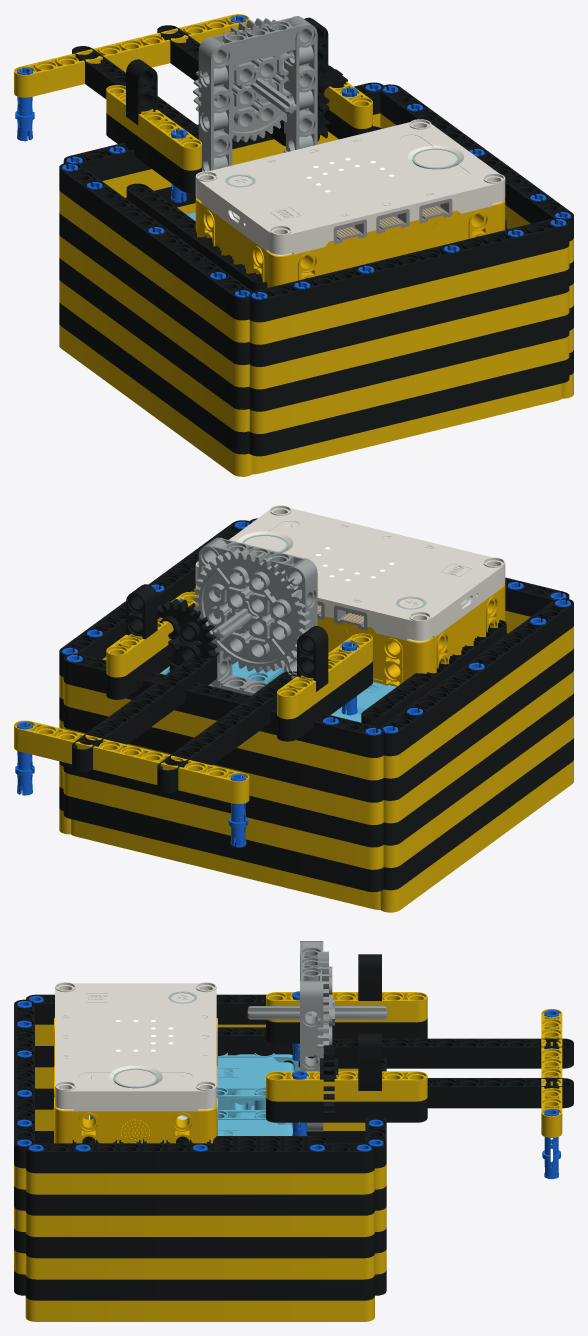
File: connectech-concept.glb
The picture shows the model from 3 angles, top to bottom: view 1: azimuth 30°, elevation 25°; view 2: azimuth 150°, elevation 25°; view 3: azimuth 270°, elevation 25°; orthographic projection. The views are drawn at different scales.
Parts seen in each view (by area): view 1: 05_Rear_frame, 06_SPIKE_hub, 02_Left_chassis, 10_Attachment, 01_Chassis, 11_Transmission, 03_Right_chassis, 04_Front_frame, 07_Motor_core; view 2: 04_Front_frame, 10_Attachment, 02_Left_chassis, 06_SPIKE_hub, 11_Transmission, 01_Chassis, 07_Motor_core, 03_Right_chassis, 05_Rear_frame; view 3: 03_Right_chassis, 10_Attachment, 06_SPIKE_hub, 07_Motor_core, 01_Chassis, 02_Left_chassis, 05_Rear_frame, 11_Transmission, 04_Front_frame.
Part boxes in pixels (left/top/right/bottom): 05_Rear_frame: left=248, top=218, right=569, bottom=456; 06_SPIKE_hub: left=195, top=119, right=505, bottom=287; 02_Left_chassis: left=59, top=162, right=253, bottom=454; 10_Attachment: left=14, top=14, right=372, bottom=202; 01_Chassis: left=59, top=325, right=573, bottom=476; 11_Transmission: left=193, top=18, right=347, bottom=142; 03_Right_chassis: left=379, top=84, right=573, bottom=375; 04_Front_frame: left=63, top=82, right=384, bottom=213; 07_Motor_core: left=126, top=126, right=506, bottom=291; 04_Front_frame: left=63, top=653, right=384, bottom=892; 10_Attachment: left=14, top=537, right=372, bottom=847; 02_Left_chassis: left=379, top=598, right=573, bottom=890; 06_SPIKE_hub: left=195, top=505, right=505, bottom=686; 11_Transmission: left=157, top=548, right=310, bottom=672; 01_Chassis: left=59, top=760, right=573, bottom=912; 07_Motor_core: left=160, top=619, right=506, bottom=727; 03_Right_chassis: left=59, top=520, right=251, bottom=810; 05_Rear_frame: left=248, top=518, right=569, bottom=634; 03_Right_chassis: left=25, top=1143, right=374, bottom=1300; 10_Attachment: left=266, top=941, right=573, bottom=1179; 06_SPIKE_hub: left=54, top=982, right=217, bottom=1143; 07_Motor_core: left=72, top=1027, right=327, bottom=1143; 01_Chassis: left=25, top=1296, right=374, bottom=1321; 02_Left_chassis: left=25, top=994, right=365, bottom=1143; 05_Rear_frame: left=14, top=999, right=34, bottom=1295; 11_Transmission: left=247, top=951, right=386, bottom=1114; 04_Front_frame: left=365, top=1038, right=386, bottom=1295.
Bounding box in the file's own units: 318 × 274 × 478.
